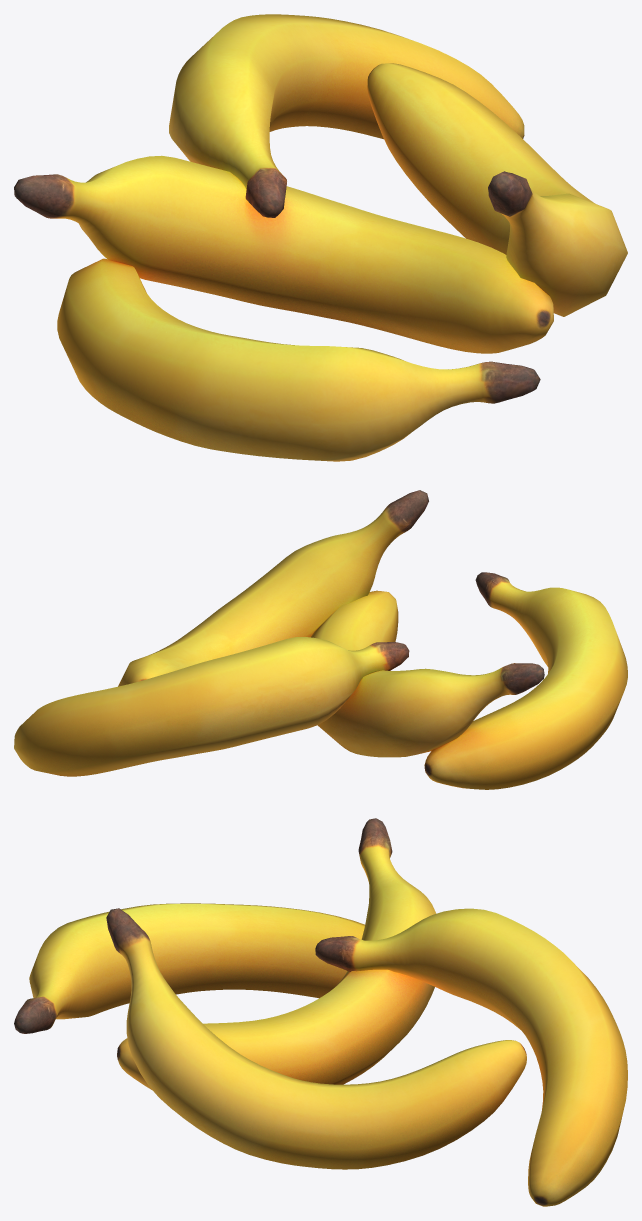
Rendered from bananas.glb.
The picture shows the model from 3 angles, top to bottom: view 1: azimuth 30°, elevation 25°; view 2: azimuth 150°, elevation 25°; view 3: azimuth 270°, elevation 25°; orthographic projection. The views are drawn at different scales.
Parts seen in each view (by area): view 1: Banana.003; view 2: Banana.003; view 3: Banana.003.
Boxes of the visible parts, left/top/right/bottom form: Banana.003: left=14, top=14, right=627, bottom=461; Banana.003: left=14, top=490, right=627, bottom=789; Banana.003: left=14, top=818, right=627, bottom=1206.
Bounding box in the file's own units: 0.0617 × 0.0231 × 0.0661.
Materials: 1 (1 with a texture image).
